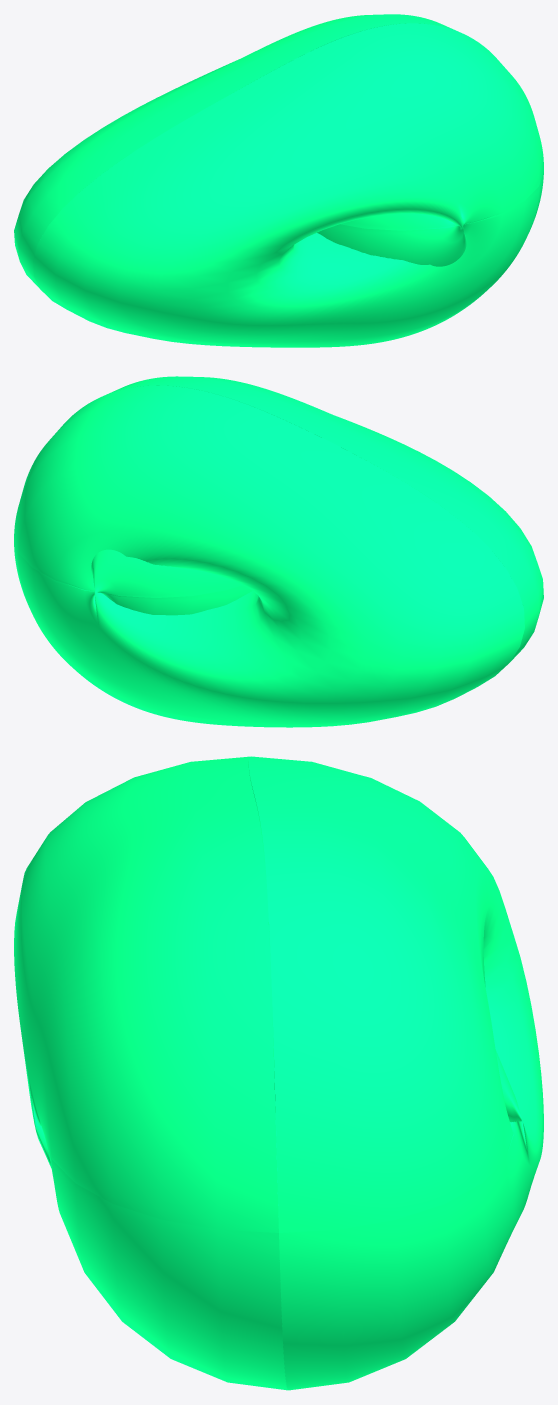
Rendered from kepler_planetary_motion_ar_universal.glb.
3 renders of one model, top to bottom at view 1: azimuth 30°, elevation 25°; view 2: azimuth 150°, elevation 25°; view 3: azimuth 270°, elevation 25°, orthographic. The views are drawn at different scales.
Visible parts, largest first — view 1: kepler_planetary_motion_ar; view 2: kepler_planetary_motion_ar; view 3: kepler_planetary_motion_ar.
Part boxes in pixels (x1,y1,x2,y2): kepler_planetary_motion_ar: (14,14,543,347); kepler_planetary_motion_ar: (14,376,543,727); kepler_planetary_motion_ar: (14,756,543,1390).
Bounding box in the file's own units: 1 × 0.5986 × 0.5644.
